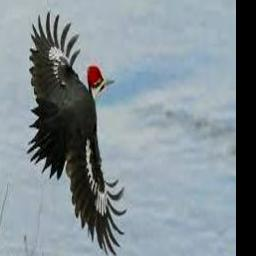Woodpecker: (27, 9, 128, 255)
